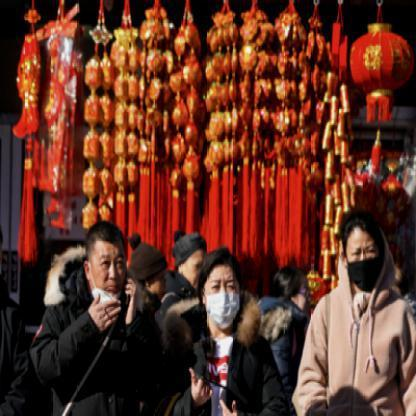mask_weared_incorrect: (91, 245, 127, 304)
with_mask: (347, 236, 383, 289), (205, 275, 239, 327)
without_mask: (149, 270, 167, 300), (294, 284, 310, 314)
